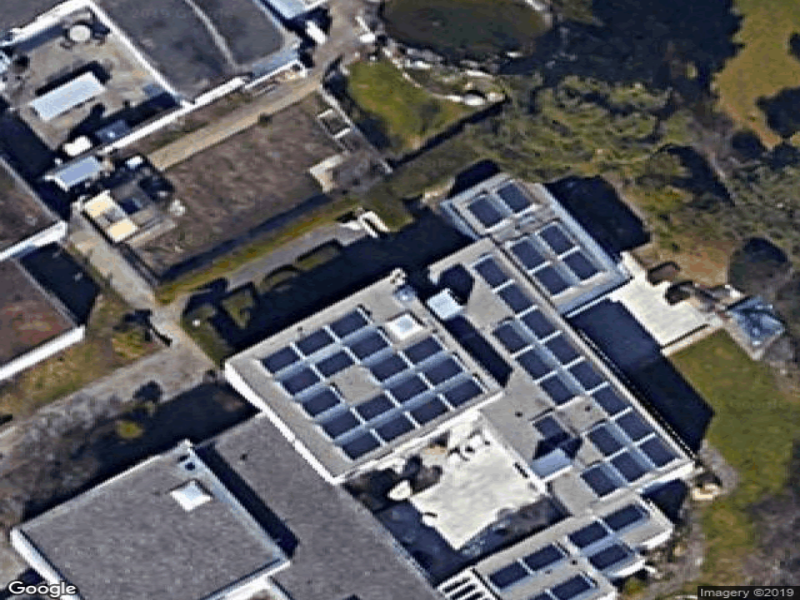pv: (262, 180, 693, 600)
